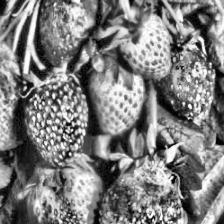Gray Mold: (108, 155, 179, 224), (37, 0, 97, 65), (0, 38, 23, 150), (205, 8, 224, 78)
